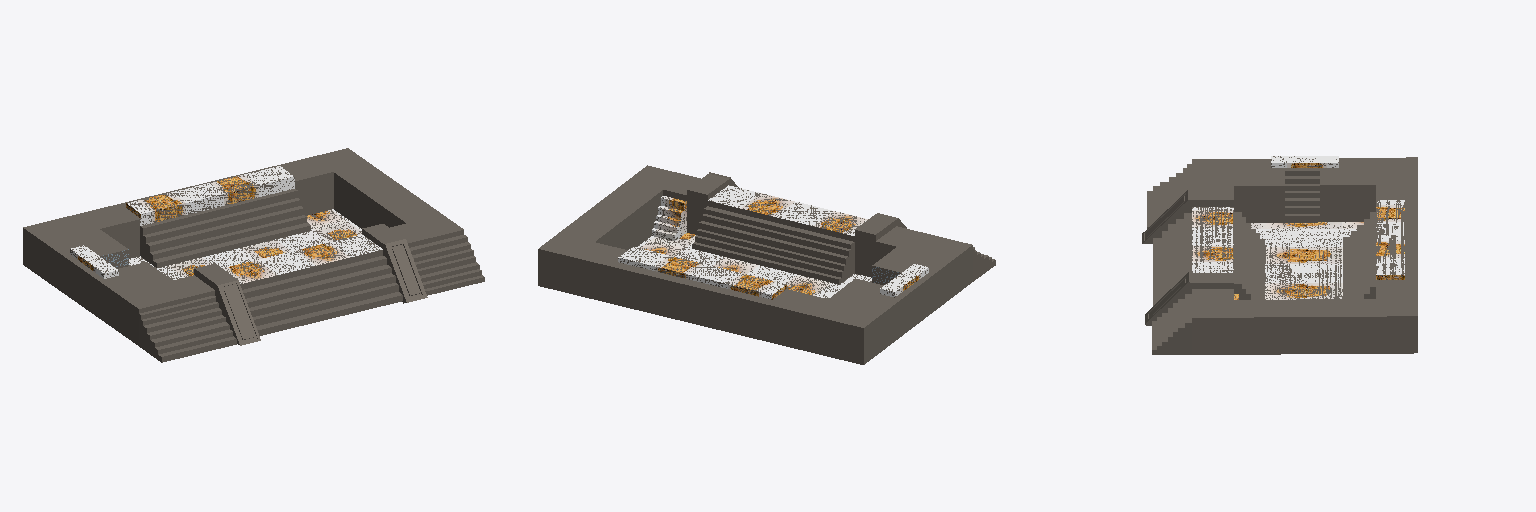
3 views of the same model, side by side, from view 1: azimuth 30°, elevation 25°; view 2: azimuth 150°, elevation 25°; view 3: azimuth 270°, elevation 25° (orthographic).
Visible parts, largest first — view 1: Mesh1 Model; view 2: Mesh1 Model; view 3: Mesh1 Model.
Part boxes in pixels (x1,y1,x2,y2): Mesh1 Model: (23, 148, 484, 362); Mesh1 Model: (538, 165, 995, 364); Mesh1 Model: (1142, 156, 1417, 354).
Bounding box in the file's own units: 3797 × 553 × 2752.
5 materials, 1 textured.